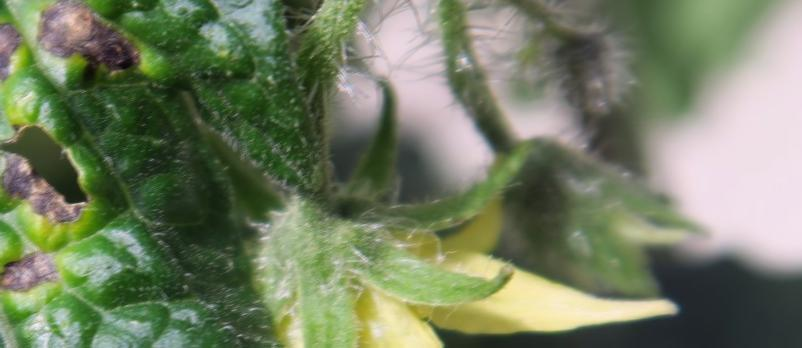Tomato leaf bacterial spot: (0, 0, 540, 348)
